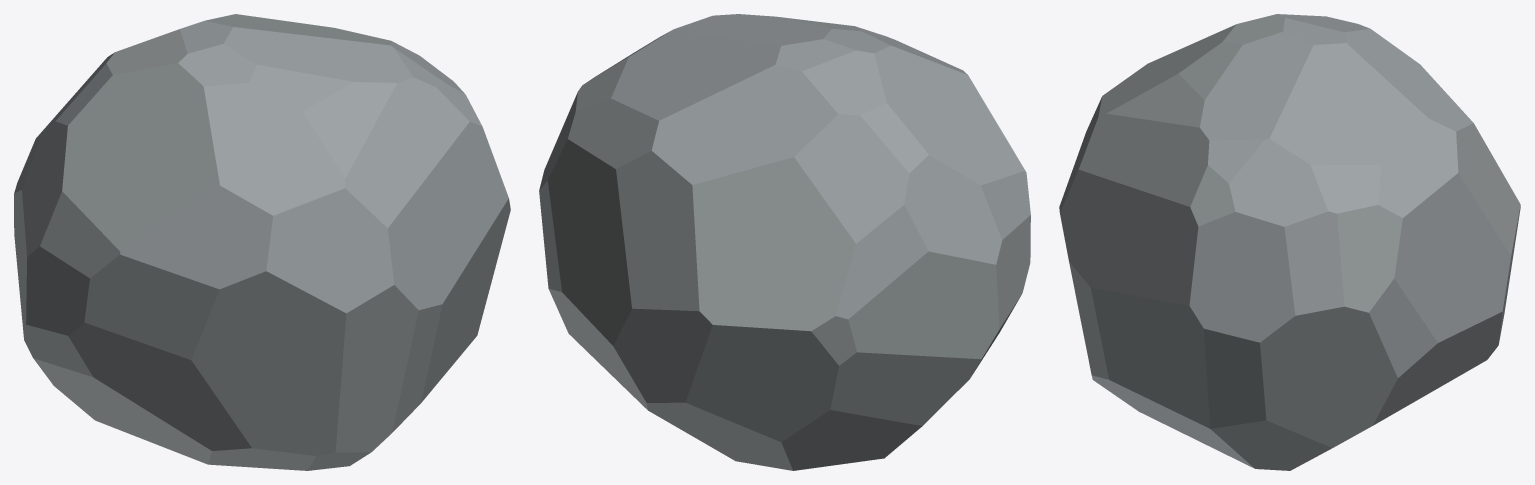
File: NHP_Rock_Boulder_A1_04.fbx
3 views of the same model, side by side, from view 1: azimuth 30°, elevation 25°; view 2: azimuth 150°, elevation 25°; view 3: azimuth 270°, elevation 25° (orthographic). The views are drawn at different scales.
Parts seen in each view (by area): view 1: NHP_Rock_Boulder_A1_04; view 2: NHP_Rock_Boulder_A1_04; view 3: NHP_Rock_Boulder_A1_04.
Part boxes in pixels (x1,y1,x2,y2): NHP_Rock_Boulder_A1_04: (14, 14, 510, 470); NHP_Rock_Boulder_A1_04: (539, 14, 1030, 470); NHP_Rock_Boulder_A1_04: (1059, 14, 1520, 470).
Bounding box in the file's own units: 1.85 × 1.5 × 1.75.
